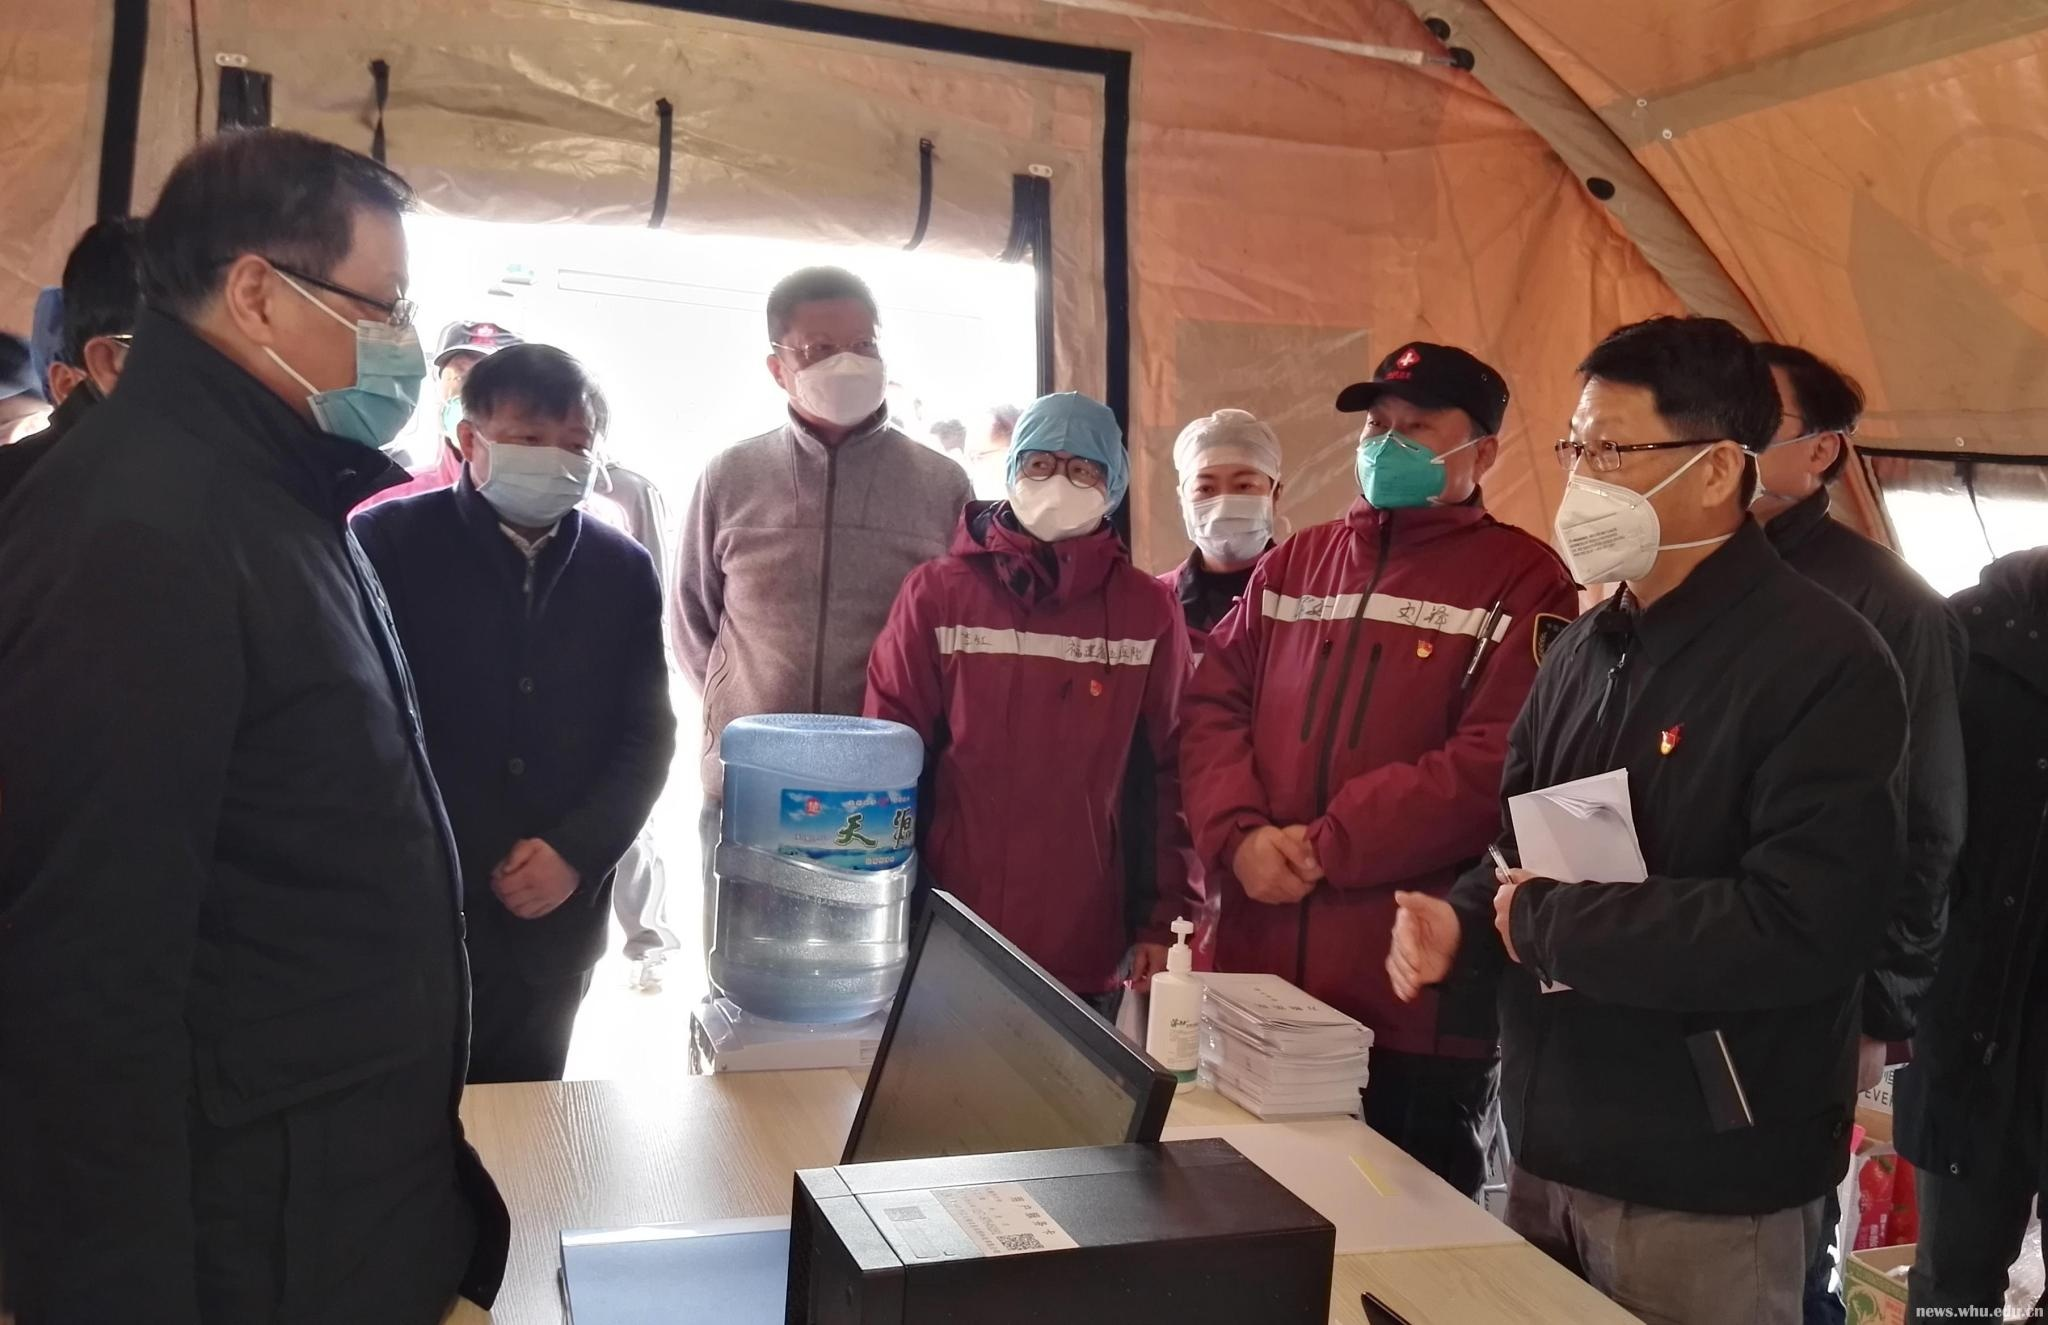correctlyWear: (222, 234, 425, 452), (1548, 404, 1752, 586), (1334, 404, 1502, 512), (458, 401, 596, 528), (764, 307, 888, 428), (1002, 428, 1126, 542), (1169, 451, 1281, 566)
